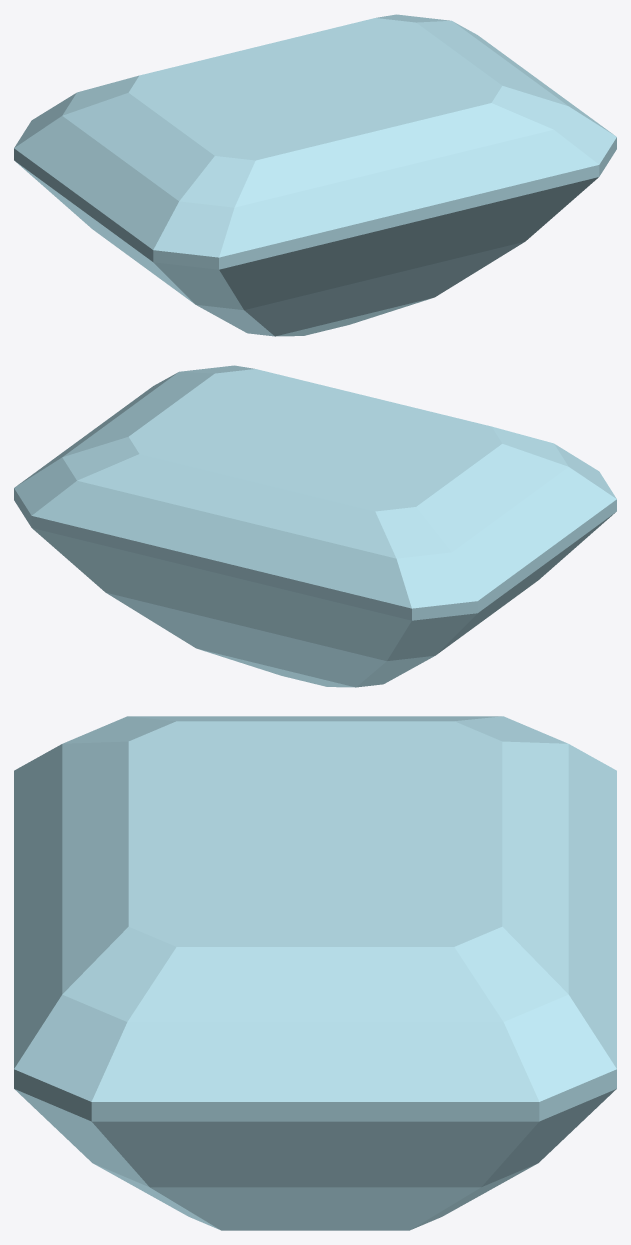
The model's file is aquamarine.glb.
3 renders of one model, top to bottom at view 1: azimuth 30°, elevation 25°; view 2: azimuth 150°, elevation 25°; view 3: azimuth 270°, elevation 25°, orthographic. The views are drawn at different scales.
Visible parts, largest first — view 1: aquamarine; view 2: aquamarine; view 3: aquamarine.
Boxes of the visible parts, bbox=[...] form: aquamarine: bbox=[14, 14, 616, 336]; aquamarine: bbox=[14, 365, 616, 687]; aquamarine: bbox=[14, 716, 616, 1230].
Size of the model in its own units: 0.25 by 0.12 by 0.175.
